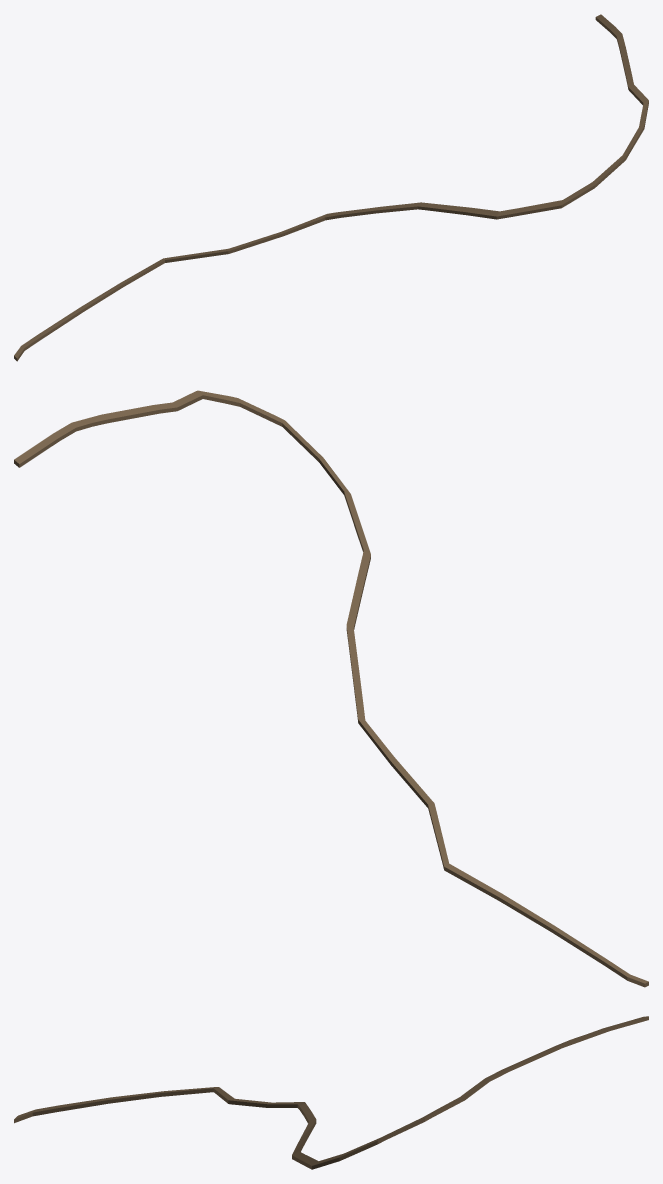
3 renders of one model, top to bottom at view 1: azimuth 30°, elevation 25°; view 2: azimuth 150°, elevation 25°; view 3: azimuth 330°, elevation 25°, orthographic. The views are drawn at different scales.
Size of the model in its own units: 132 by 59.75 by 71.86.
